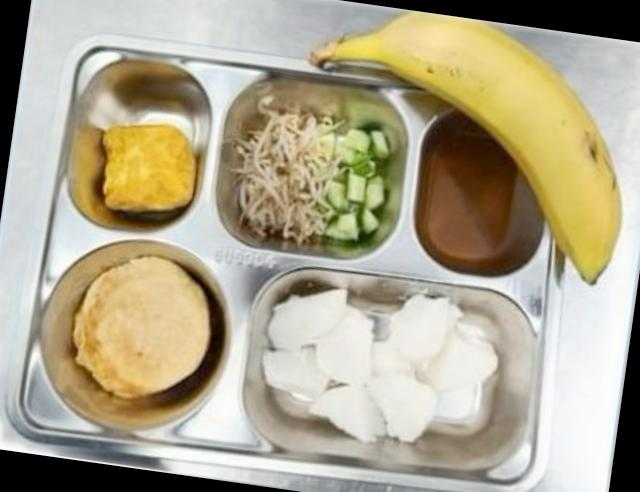buah: (310, 11, 622, 284)
nasi: (265, 288, 497, 443)
sayur: (227, 96, 390, 244)
tahu: (103, 124, 196, 212)
telur: (74, 256, 210, 399)
